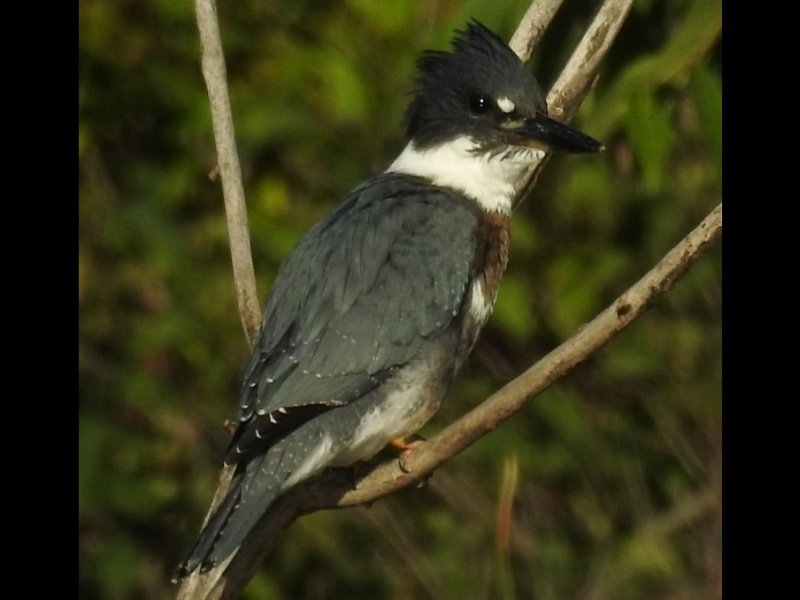kingfisher: (173, 16, 607, 582)
